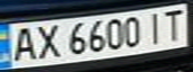0: (121, 14, 148, 47), (103, 16, 127, 51)
6: (84, 17, 109, 54), (63, 19, 87, 56)
A: (6, 24, 42, 63)
I: (142, 9, 169, 44)
T: (157, 7, 190, 42)
X: (30, 21, 63, 61)
